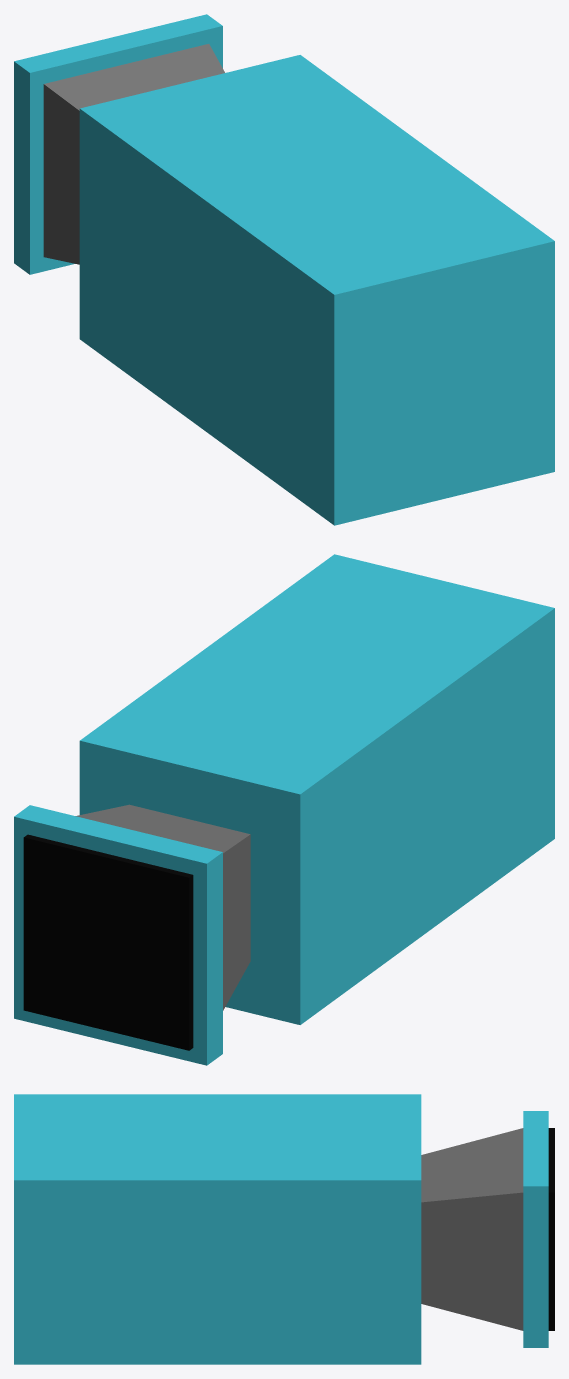
Rendered from camera_repr.FBX.
3 renders of one model, top to bottom at view 1: azimuth 30°, elevation 25°; view 2: azimuth 150°, elevation 25°; view 3: azimuth 270°, elevation 25°, orthographic. The views are drawn at different scales.
Visible parts, largest first — view 1: Box001, Box002, Pyramid001; view 2: Box001, Box003, Box002, Pyramid001; view 3: Box001, Pyramid001, Box002, Box003.
Part boxes in pixels (left/top/right/bottom): Box001: left=79, top=55, right=554, bottom=525; Box002: left=14, top=14, right=222, bottom=274; Pyramid001: left=43, top=44, right=224, bottom=264; Box001: left=79, top=554, right=554, bottom=1024; Box003: left=23, top=834, right=193, bottom=1050; Box002: left=14, top=805, right=222, bottom=1065; Pyramid001: left=75, top=804, right=250, bottom=1010; Box001: left=14, top=1094, right=421, bottom=1364; Pyramid001: left=421, top=1128, right=523, bottom=1330; Box002: left=523, top=1111, right=548, bottom=1347; Box003: left=548, top=1128, right=554, bottom=1330.
Bounding box in the file's own units: 0.16 × 0.16 × 0.425.
